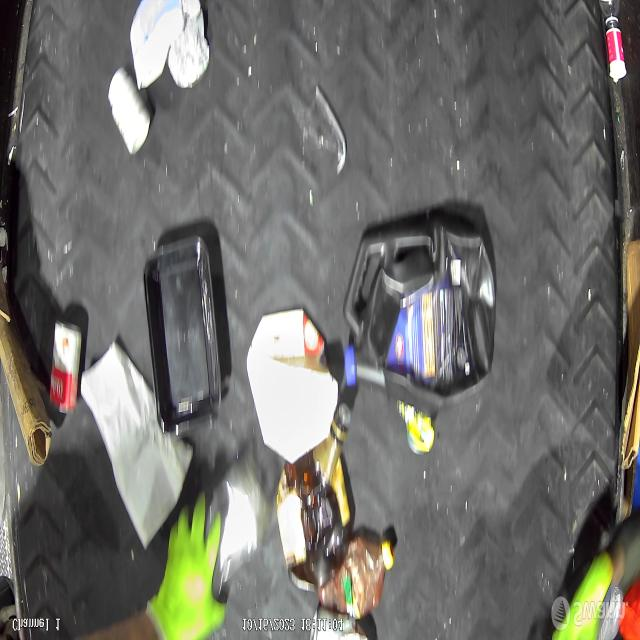can: (49, 322, 85, 412)
milk_jug: (250, 309, 337, 464)
non_white_jug: (347, 226, 493, 402)
